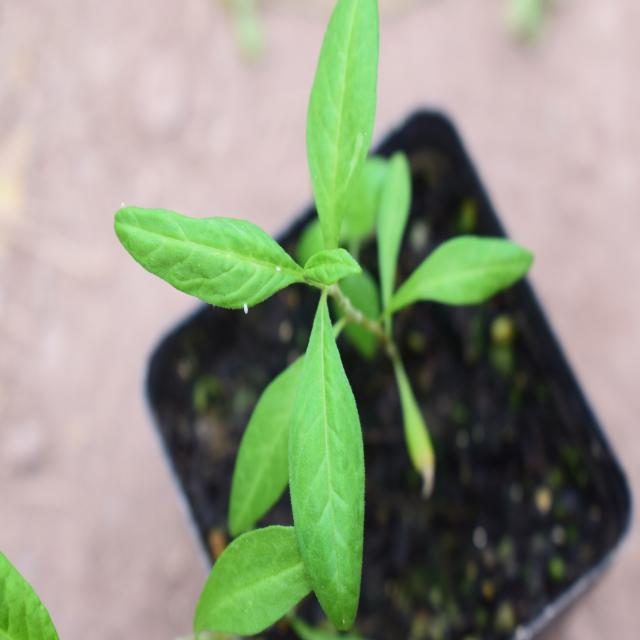white_smart_weed: (122, 16, 458, 564)
